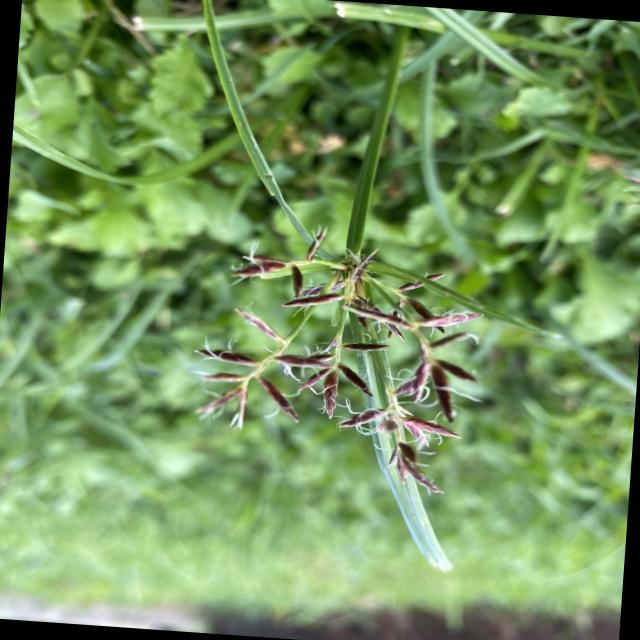cyperus: (172, 236, 502, 498)
